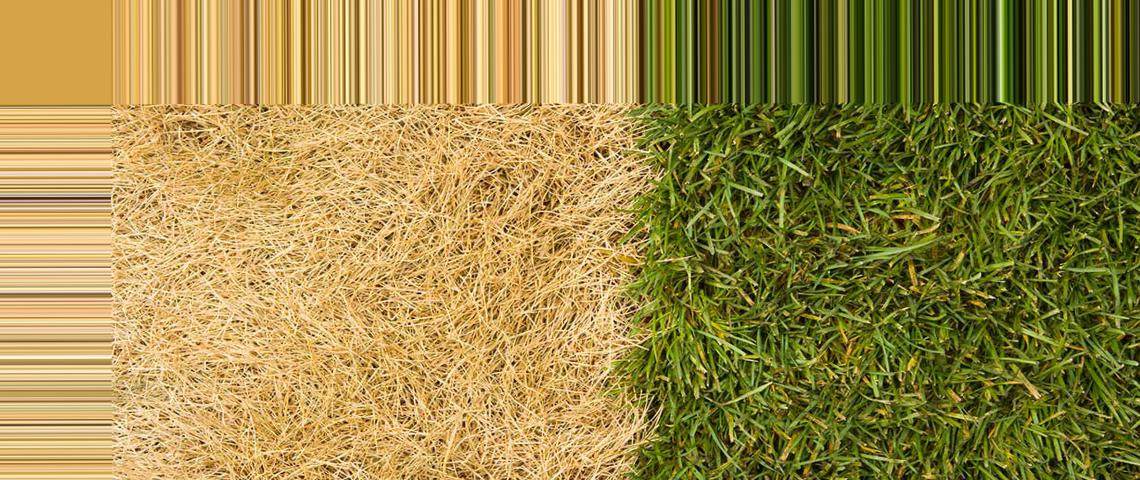patch: (117, 117, 603, 471)
